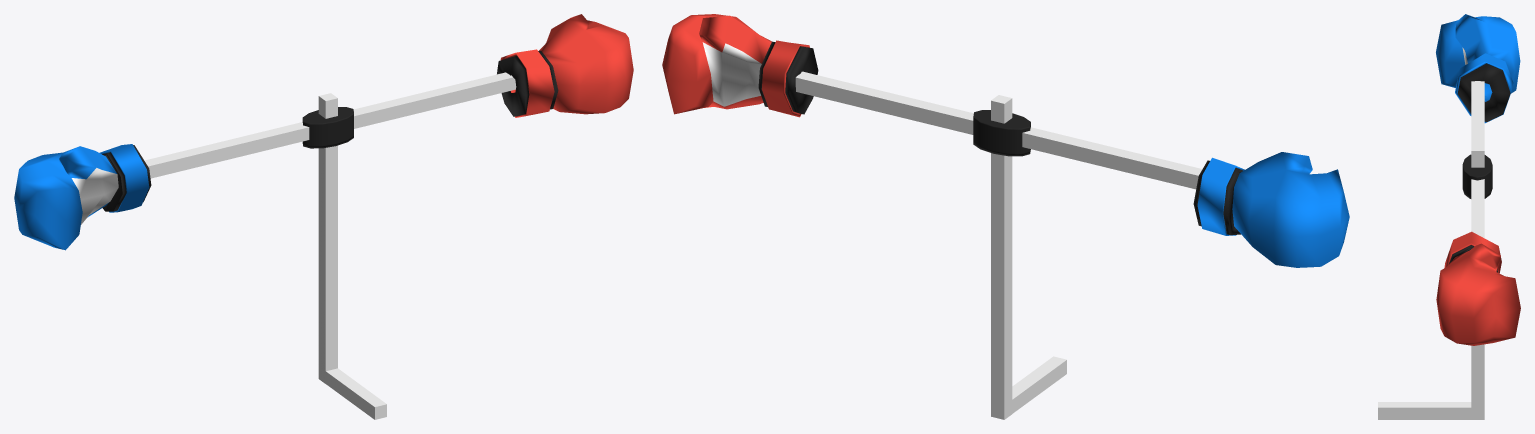
Rendered from Boxing_Gloves Right.fbx.
3 views of the same model, side by side, from view 1: azimuth 30°, elevation 25°; view 2: azimuth 150°, elevation 25°; view 3: azimuth 270°, elevation 25° (orthographic). The views are drawn at different scales.
Visible parts, largest first — view 1: Punching_Glove_Red, Punching_Glove_Blue, Rotation_Support, Extended_Hook, Ground_Hook; view 2: Punching_Glove_Blue, Punching_Glove_Red, Rotation_Support, Extended_Hook, Ground_Hook; view 3: Punching_Glove_Red, Punching_Glove_Blue, Rotation_Support, Ground_Hook, Extended_Hook.
Boxes of the visible parts, <box> form: Punching_Glove_Red: <box>497,14,633,117</box>; Punching_Glove_Blue: <box>14,144,151,250</box>; Rotation_Support: <box>144,72,516,178</box>; Extended_Hook: <box>318,93,337,383</box>; Ground_Hook: <box>325,368,386,419</box>; Punching_Glove_Blue: <box>1193,152,1349,267</box>; Punching_Glove_Red: <box>662,14,818,117</box>; Rotation_Support: <box>795,71,1202,189</box>; Extended_Hook: <box>991,95,1012,419</box>; Ground_Hook: <box>1012,356,1066,413</box>; Punching_Glove_Red: <box>1436,231,1520,345</box>; Punching_Glove_Blue: <box>1436,14,1520,123</box>; Rotation_Support: <box>1462,81,1492,238</box>; Ground_Hook: <box>1378,402,1471,419</box>; Extended_Hook: <box>1471,145,1484,419</box>.
Bounding box in the file's own units: 422 × 200 × 90.88.
1 material, 1 textured.
